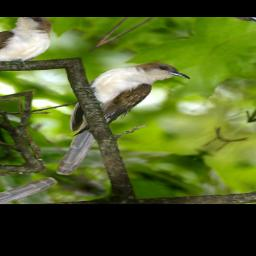Cuckoo: (0, 50, 210, 177)
